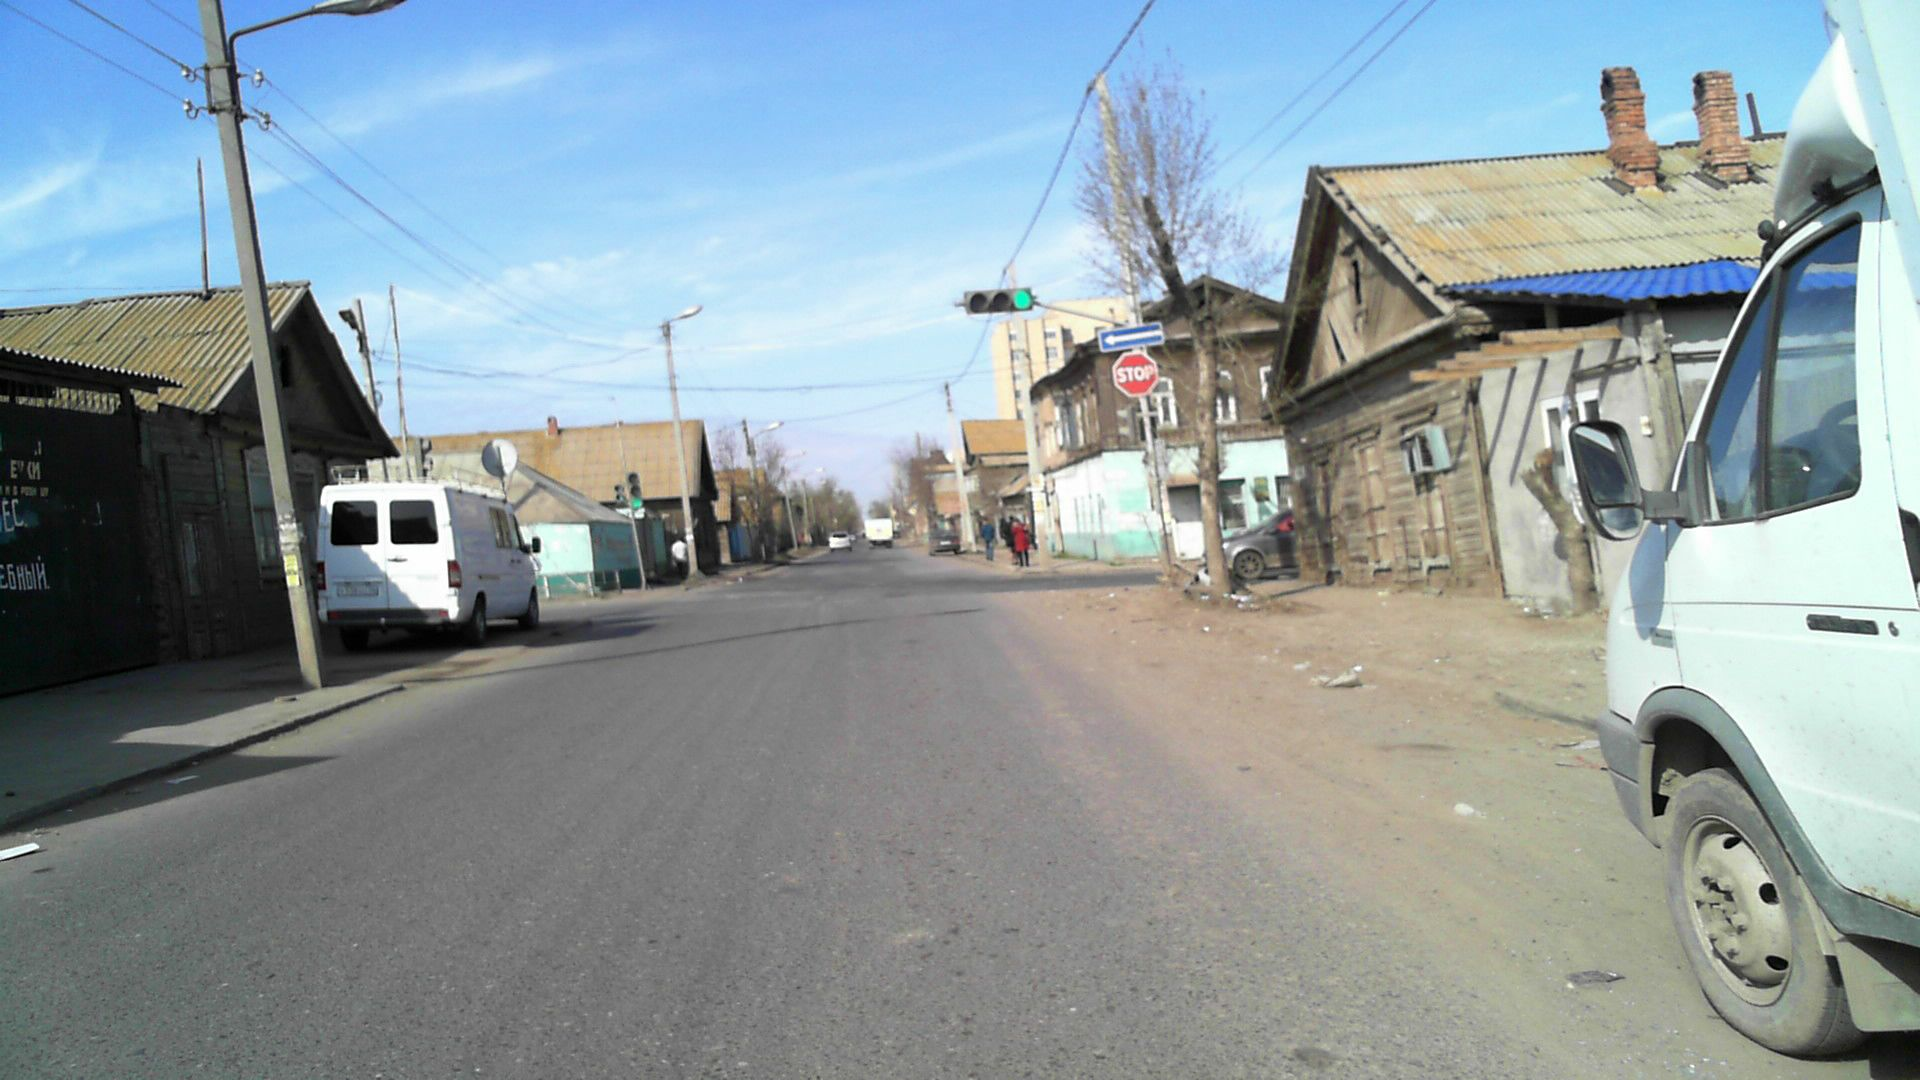One-Way Traffic: (1100, 323, 1163, 349)
